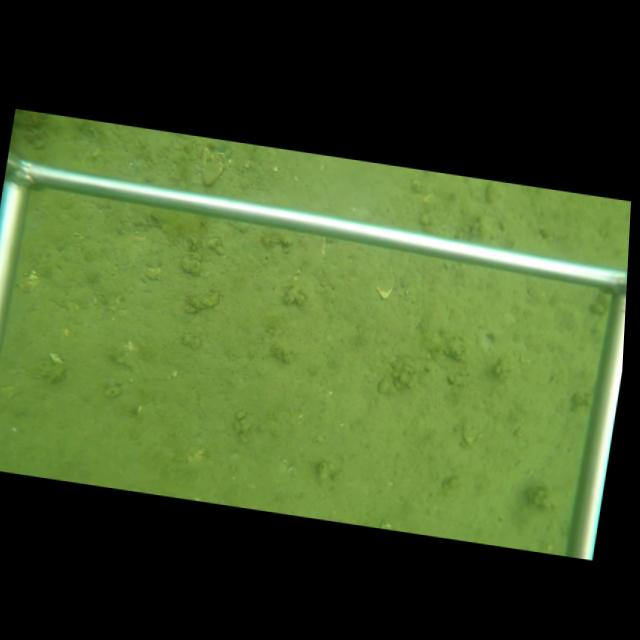Oyster-Indeterminate: (199, 149, 226, 189)
